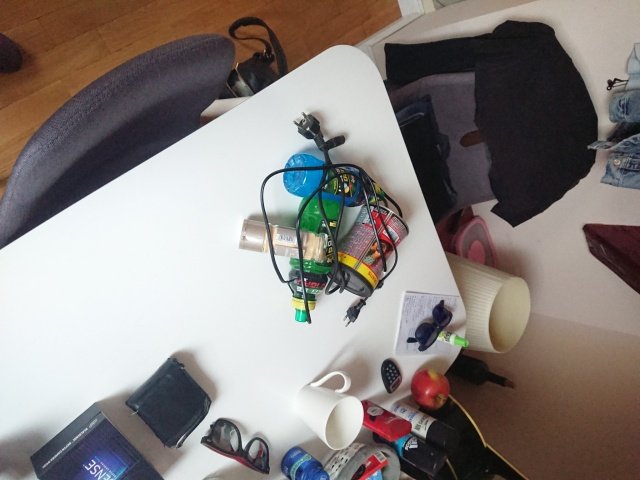Kotanyi Garlic Granules 70g: (237, 217, 330, 265)
Nescafe Classic 225g: (324, 202, 411, 299)
Vindi Iso Sport Forest Strawberries 500mL: (282, 152, 387, 208)
Vindi Iso Sport Lemon-Grapefruit 500mL: (286, 194, 344, 324)
